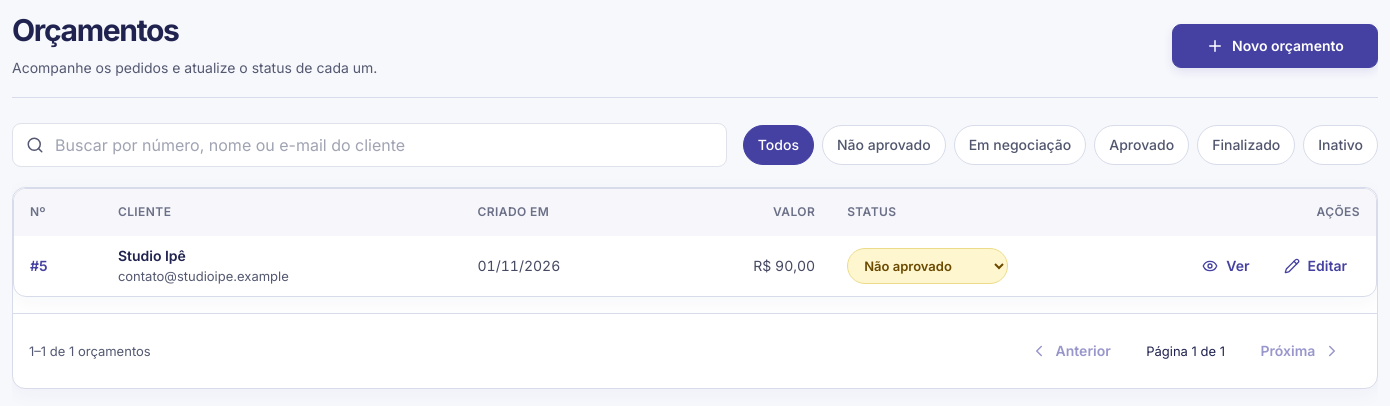
Test case: Lista de orçamentos › muda o status na própria linha, recarrega a lista e avisa
Select "Finalizado" in the dropdown named "Status do orçamento 5" at (928, 266), box left=847, top=248, right=1008, bottom=284
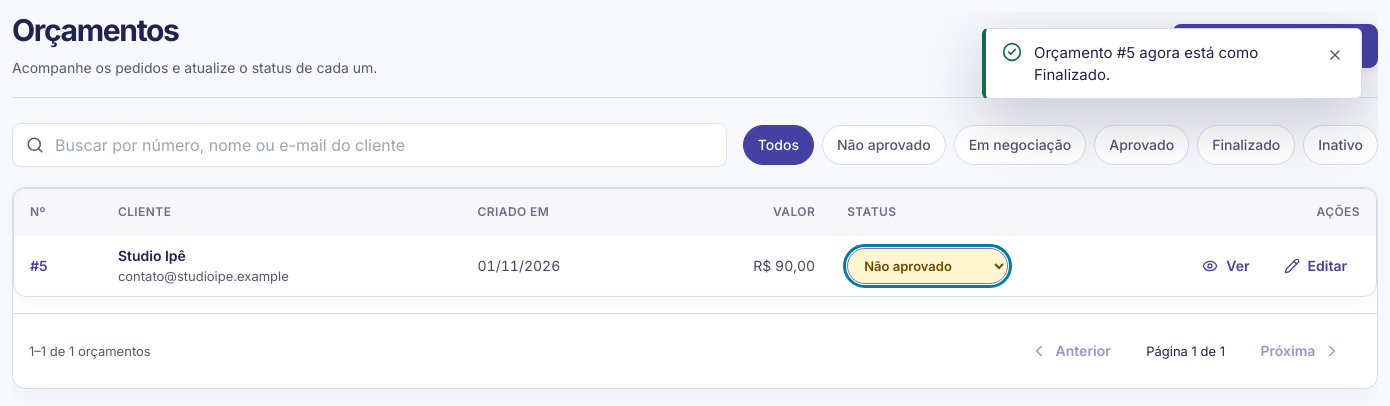
Result: the text "Orçamento #5 agora está como Finalizado." is shown at left=1034, top=43, right=1258, bottom=84
